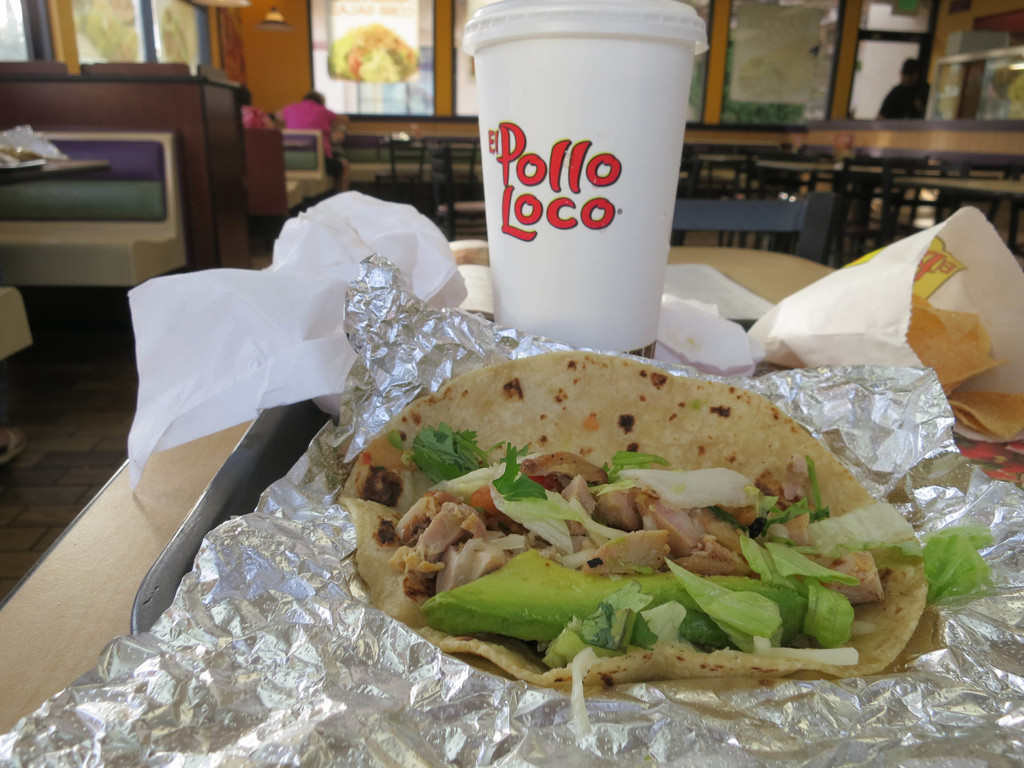taco: (326, 329, 906, 701)
